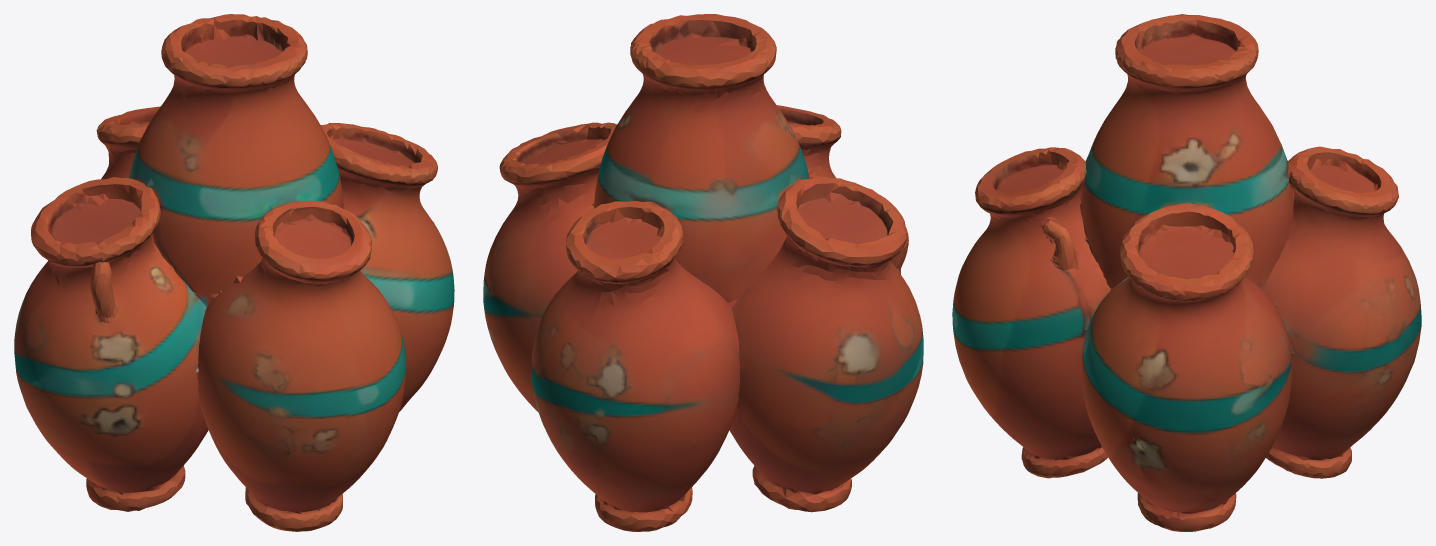
The model's file is Atlantis_AmphoraCluster.glb.
3 views of the same model, side by side, from view 1: azimuth 30°, elevation 25°; view 2: azimuth 150°, elevation 25°; view 3: azimuth 270°, elevation 25° (orthographic).
Parts seen in each view (by area): view 1: Atlantis_AmphoraCluster; view 2: Atlantis_AmphoraCluster; view 3: Atlantis_AmphoraCluster.
Part boxes in pixels (x1,y1,x2,y2): Atlantis_AmphoraCluster: (14,14,454,531); Atlantis_AmphoraCluster: (483,14,923,531); Atlantis_AmphoraCluster: (952,14,1421,531).
Size of the model in its own units: 0.9513 by 0.95 by 0.9495.
1 material, 1 textured.
